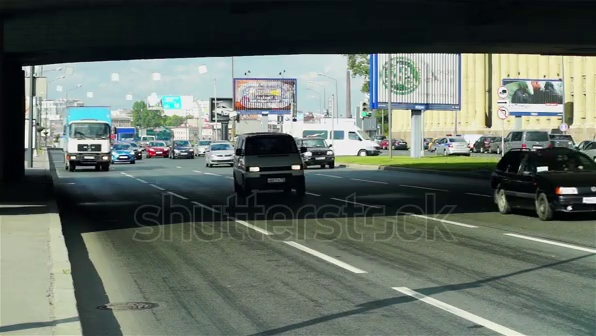licenseplate: (265, 176, 290, 182), (585, 197, 596, 208)
